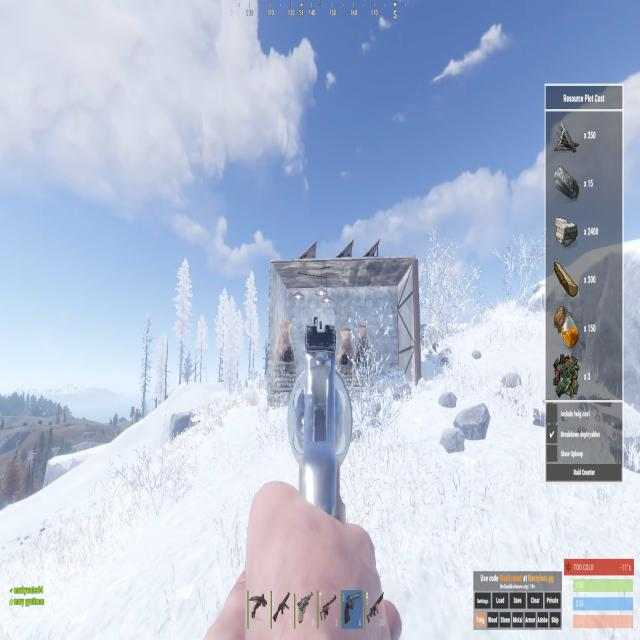Player: (312, 315, 320, 332)
